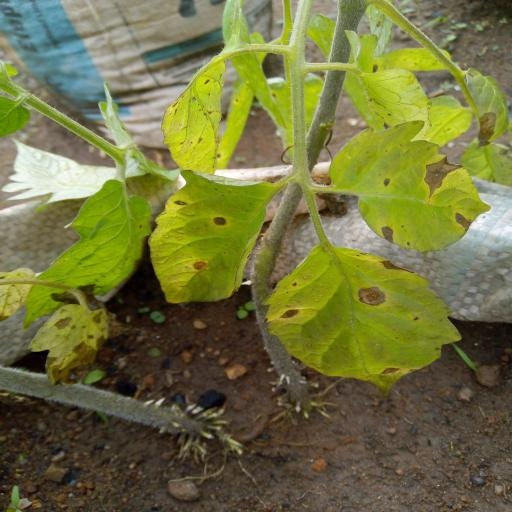disease_tomato: (270, 245, 465, 385), (330, 118, 492, 252), (146, 165, 270, 304)
